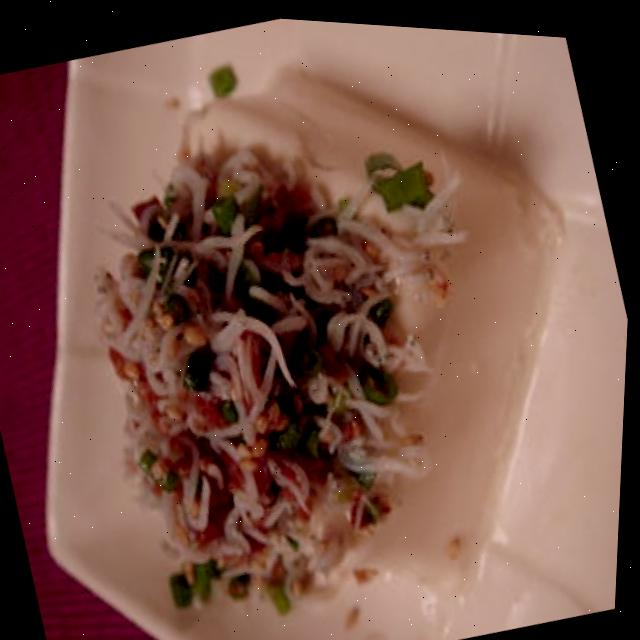豆腐料理: (27, 3, 640, 640)
